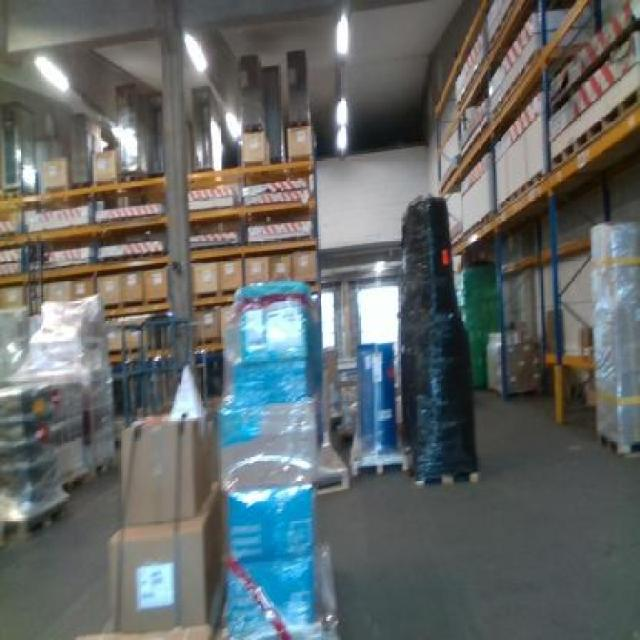ground: (317, 386, 638, 638), (0, 468, 124, 638)
pallet: (549, 85, 638, 174), (0, 492, 74, 541), (497, 166, 545, 215), (313, 441, 351, 501), (461, 206, 497, 242), (595, 429, 640, 457), (350, 459, 413, 477), (102, 297, 165, 312), (416, 472, 481, 485), (85, 455, 115, 483), (62, 464, 88, 495), (188, 287, 238, 301)
